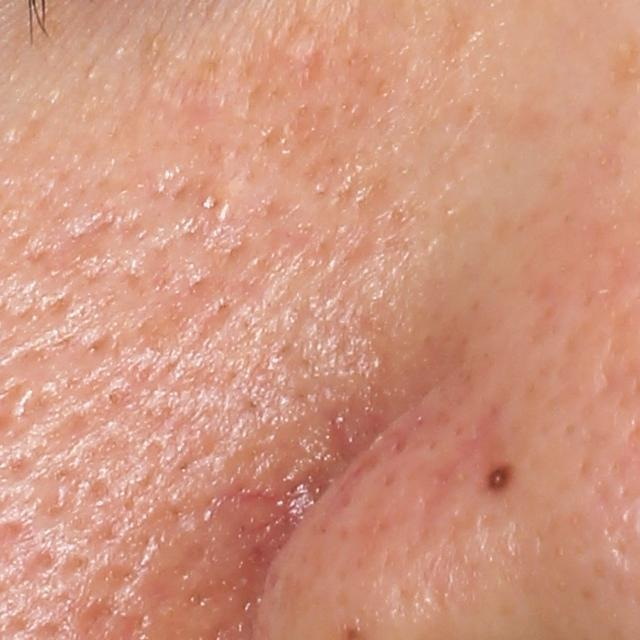nevus: (483, 463, 513, 494)
